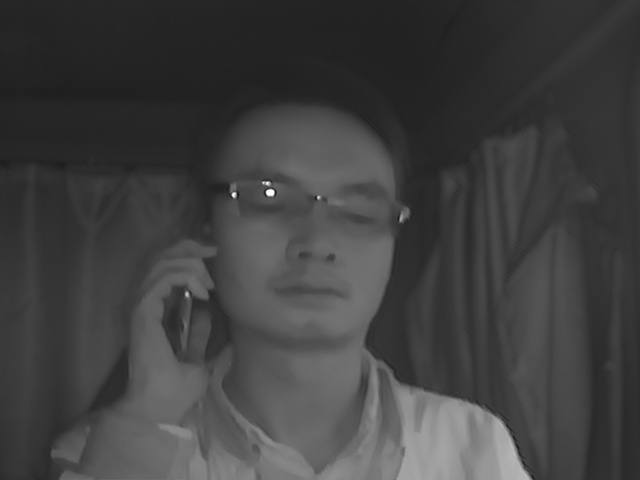hand: (119, 234, 224, 415)
